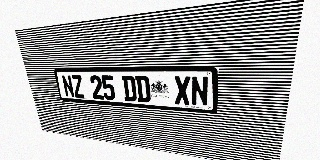2: (89, 75, 104, 99)
5: (101, 75, 116, 100)
D: (135, 76, 151, 103), (121, 76, 137, 102)
N: (191, 76, 209, 106), (61, 75, 75, 98)
X: (174, 76, 191, 105)
Z: (71, 75, 85, 98)
